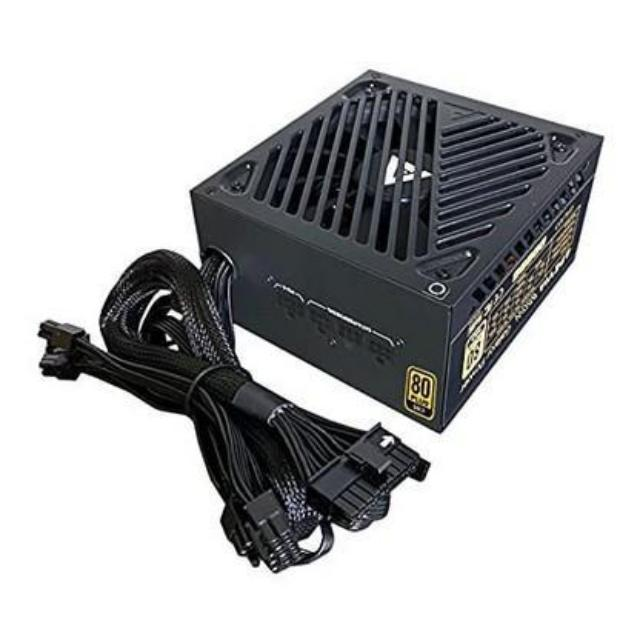PSU: (189, 47, 609, 445)
